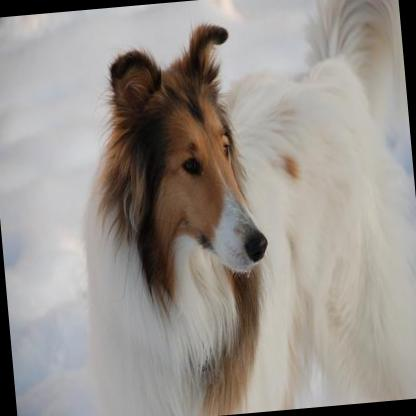collie: (58, 0, 416, 416)
